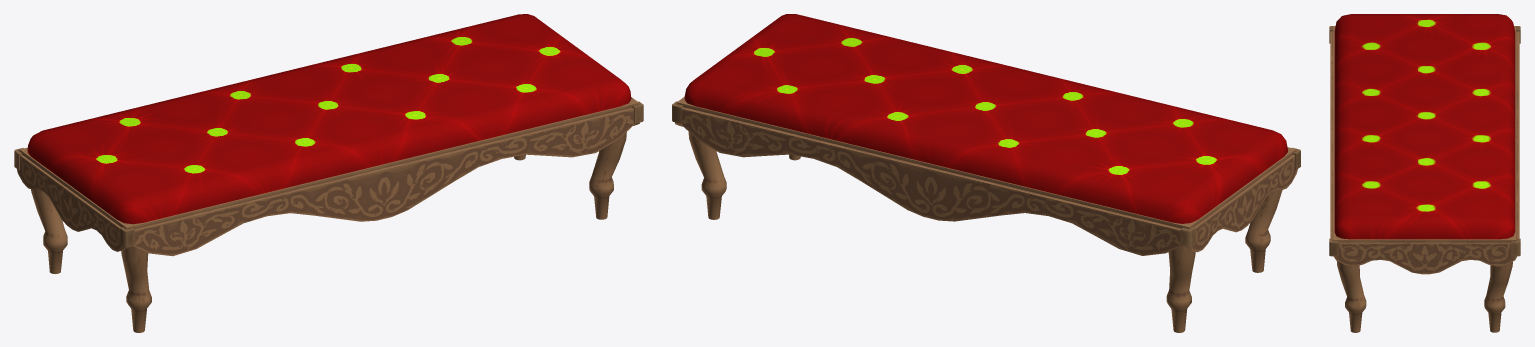
The model's file is ARC0510119.fbx.
3 renders of one model, left to right at view 1: azimuth 30°, elevation 25°; view 2: azimuth 150°, elevation 25°; view 3: azimuth 270°, elevation 25°, orthographic. The views are drawn at different scales.
Parts seen in each view (by area): view 1: smARC0510119; view 2: smARC0510119; view 3: smARC0510119.
Part boxes in pixels (box(x1,y1,x2,y2)): smARC0510119: box(14, 14, 643, 332); smARC0510119: box(672, 14, 1300, 332); smARC0510119: box(1329, 14, 1520, 332).
Bounding box in the file's own units: 227 × 57.91 × 84.84.
1 material, 1 textured.
